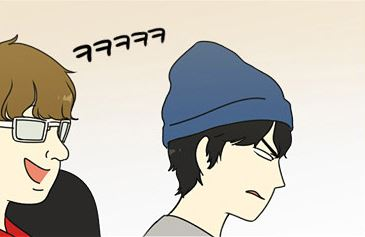hat: (158, 40, 296, 147)
